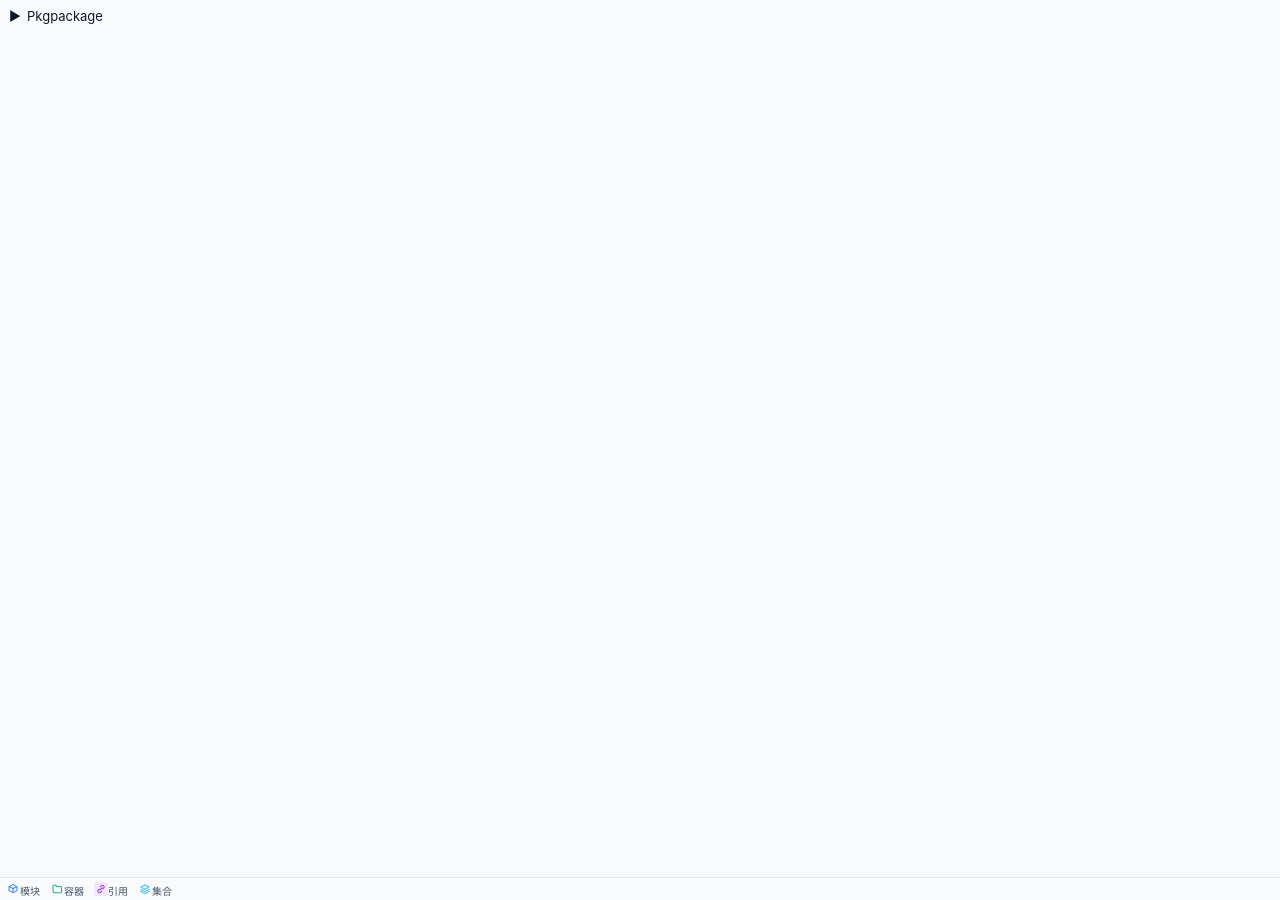
Tree module-kind right-click (Bug 1 — multi-doc) › right-clicking module in doc WITHOUT sourceBswmdPath forwards to host onContextMenu only
Later steps or results of the test are not shown.
Click the button with test id "chevron-/Pkg" at (15, 17), box [7, 9, 23, 25]
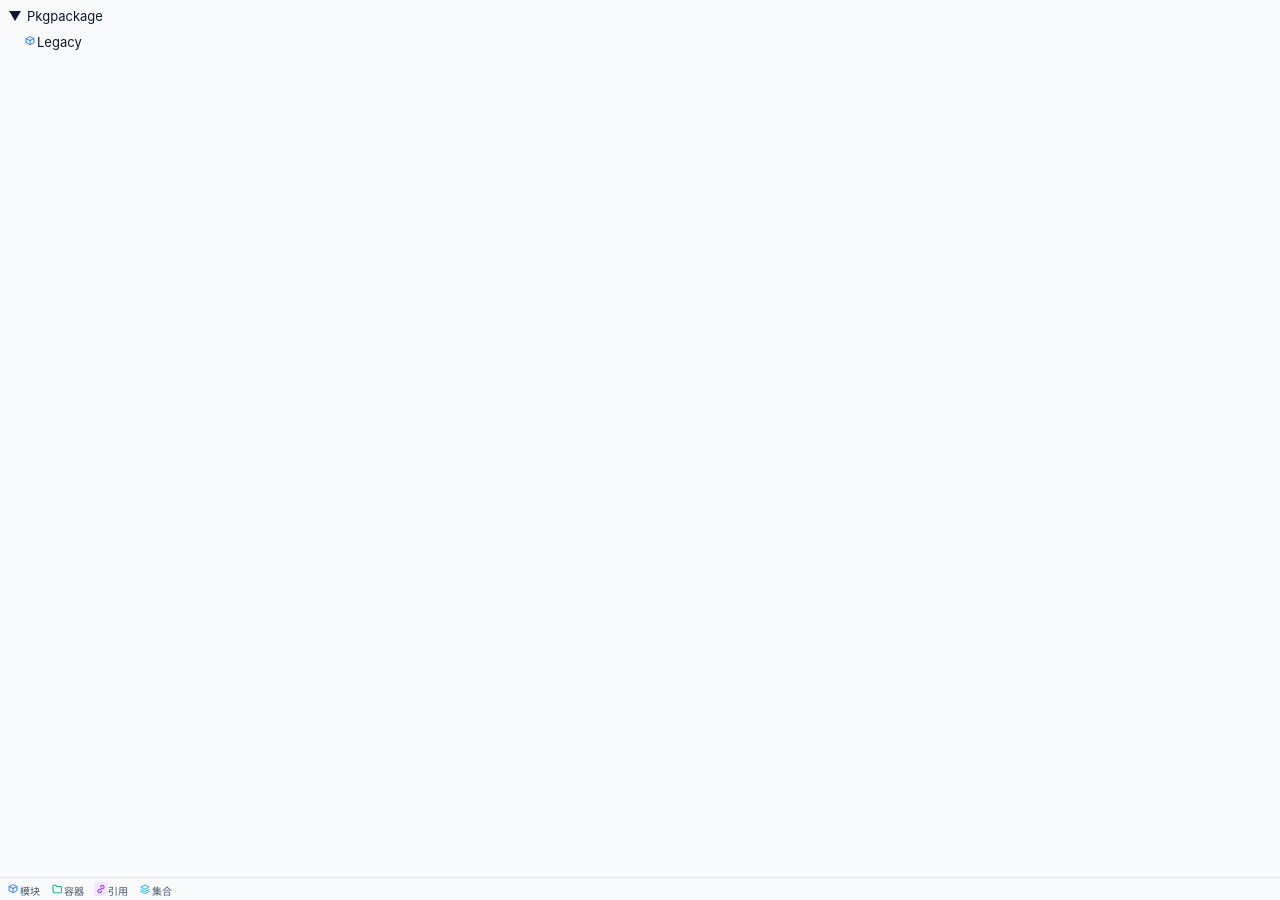
Result: the list item with test id "treeitem-/Pkg/Legacy" is shown at [23, 32, 82, 52]
